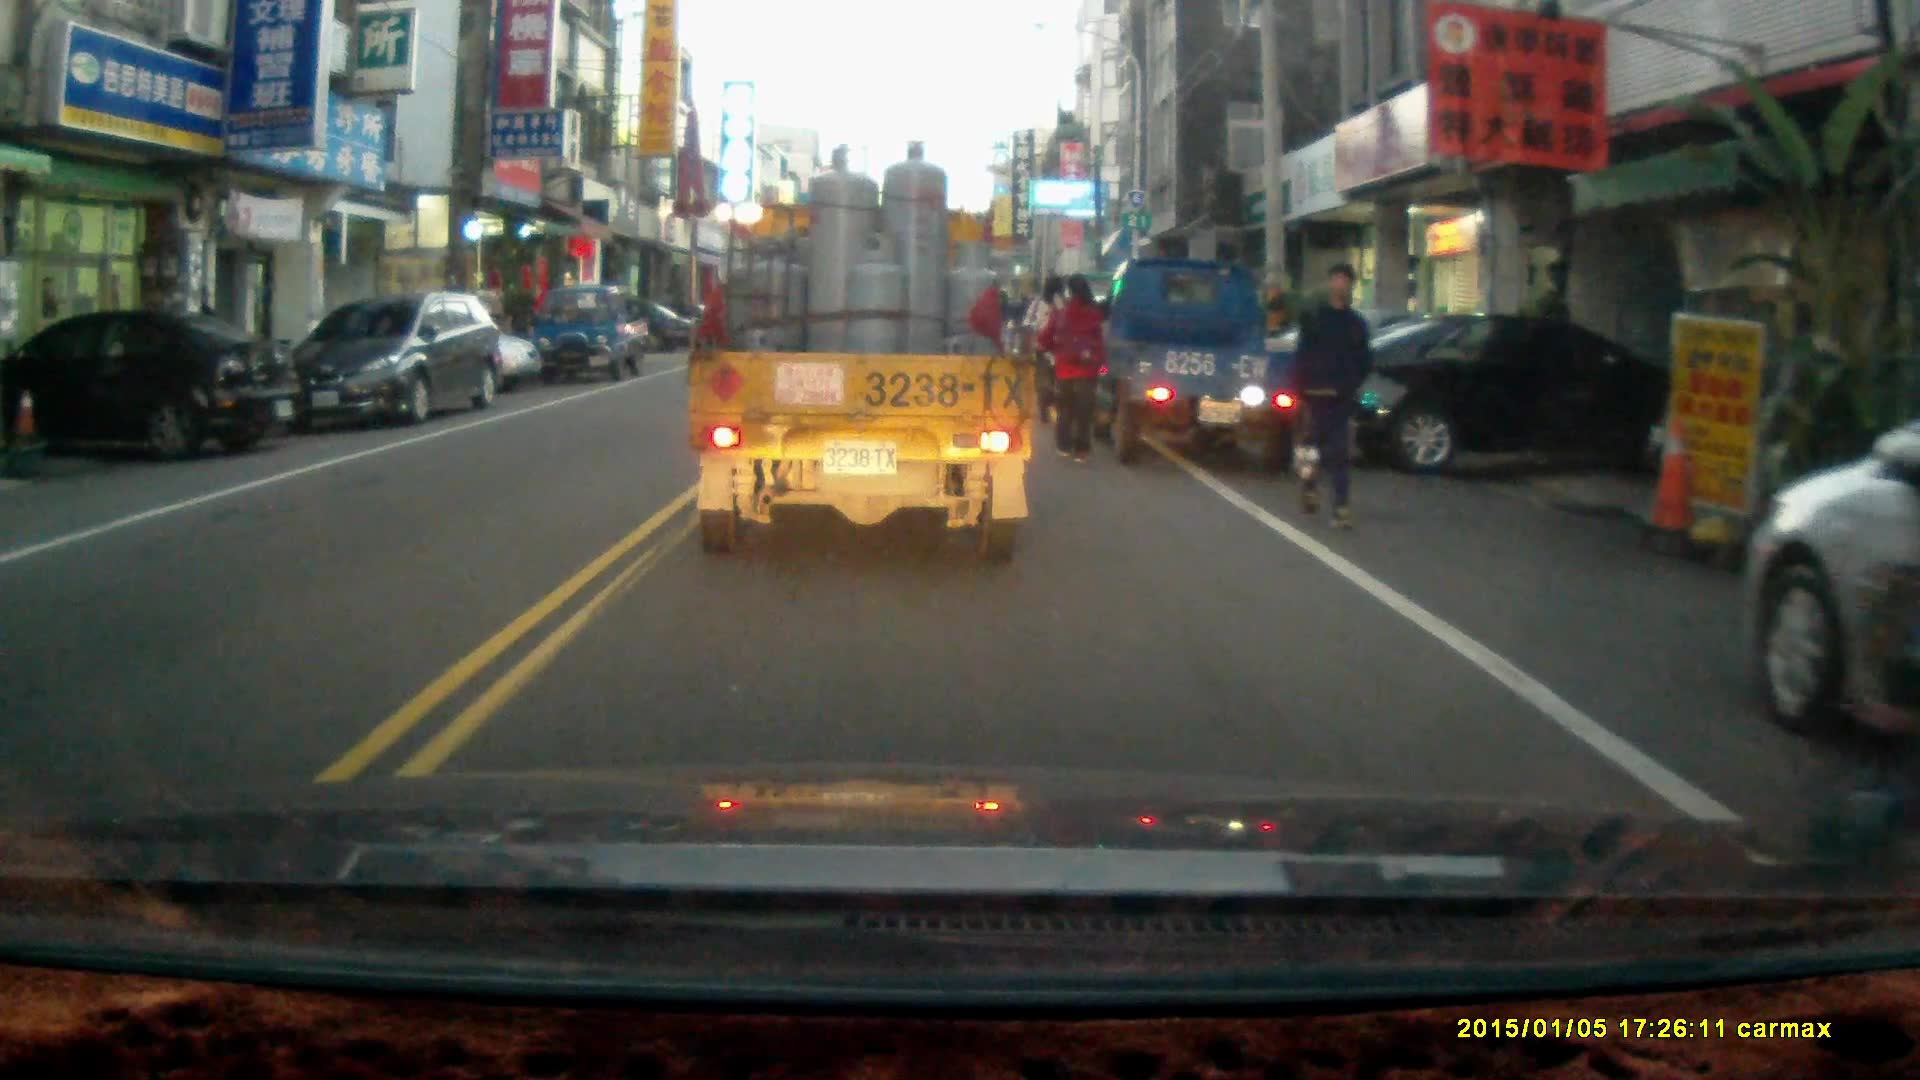pedestrian: (1283, 260, 1367, 529), (1036, 268, 1105, 462)
vehicle: (682, 139, 1040, 570), (1306, 304, 1644, 485), (1734, 467, 1920, 746), (1098, 255, 1335, 472), (1, 305, 306, 465), (276, 290, 513, 429), (534, 278, 653, 380)
